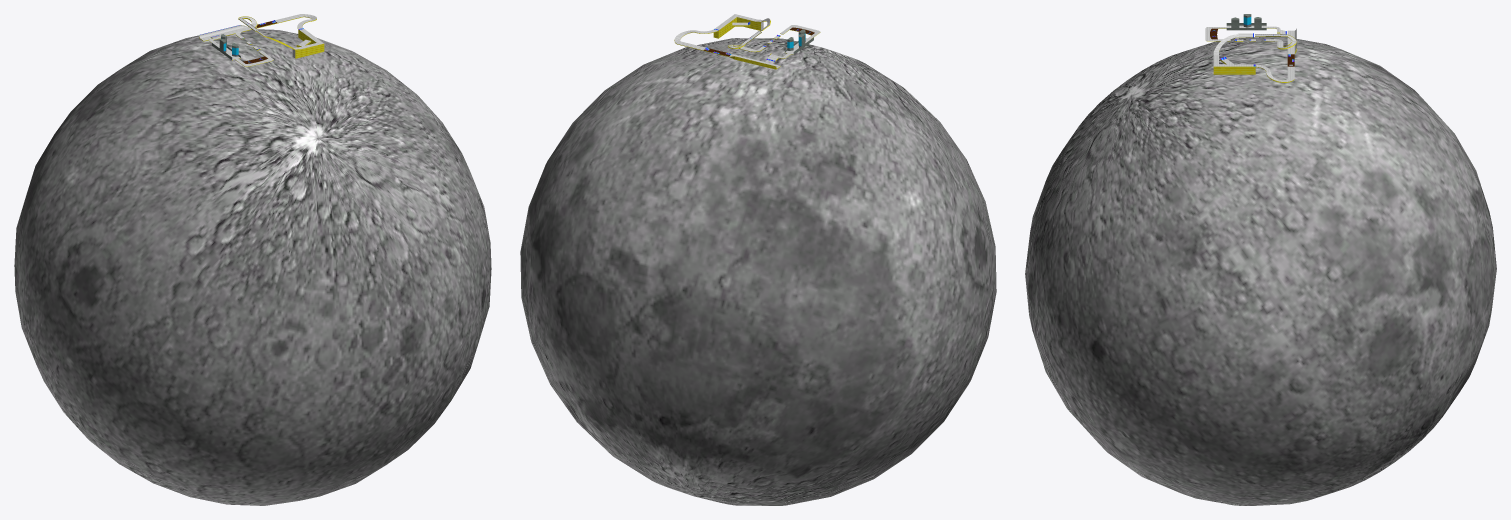
3 renders of one model, left to right at view 1: azimuth 30°, elevation 25°; view 2: azimuth 150°, elevation 25°; view 3: azimuth 270°, elevation 25°, orthographic.
Parts seen in each view (by area): view 1: Space_MOde_Revision_941-0249012490211-COM-sphere01-8727-mate, Space_MOde_Revision_941-0249012490211-SKP--Material6, Space_MOde_Revision_941-0249012490211-SKP--Material2; view 2: Space_MOde_Revision_941-0249012490211-COM-sphere01-8727-mate, Space_MOde_Revision_941-0249012490211-SKP--Material6, Space_MOde_Revision_941-0249012490211-SKP--Material2; view 3: Space_MOde_Revision_941-0249012490211-COM-sphere01-8727-mate, Space_MOde_Revision_941-0249012490211-SKP--Material6, Space_MOde_Revision_941-0249012490211-SKP--Material2.
Part boxes in pixels (x1,y1,x2,y2): Space_MOde_Revision_941-0249012490211-COM-sphere01-8727-mate: (14,29,491,505); Space_MOde_Revision_941-0249012490211-SKP--Material6: (199,14,323,66); Space_MOde_Revision_941-0249012490211-SKP--Material2: (199,16,324,66); Space_MOde_Revision_941-0249012490211-COM-sphere01-8727-mate: (520,38,996,505); Space_MOde_Revision_941-0249012490211-SKP--Material6: (674,14,820,68); Space_MOde_Revision_941-0249012490211-SKP--Material2: (674,17,820,69); Space_MOde_Revision_941-0249012490211-COM-sphere01-8727-mate: (1025,36,1496,505); Space_MOde_Revision_941-0249012490211-SKP--Material6: (1205,25,1296,81); Space_MOde_Revision_941-0249012490211-SKP--Material2: (1207,28,1296,82).
Bounding box in the file's own units: 296625 × 310403 × 293876.
9 materials, 9 textured.
